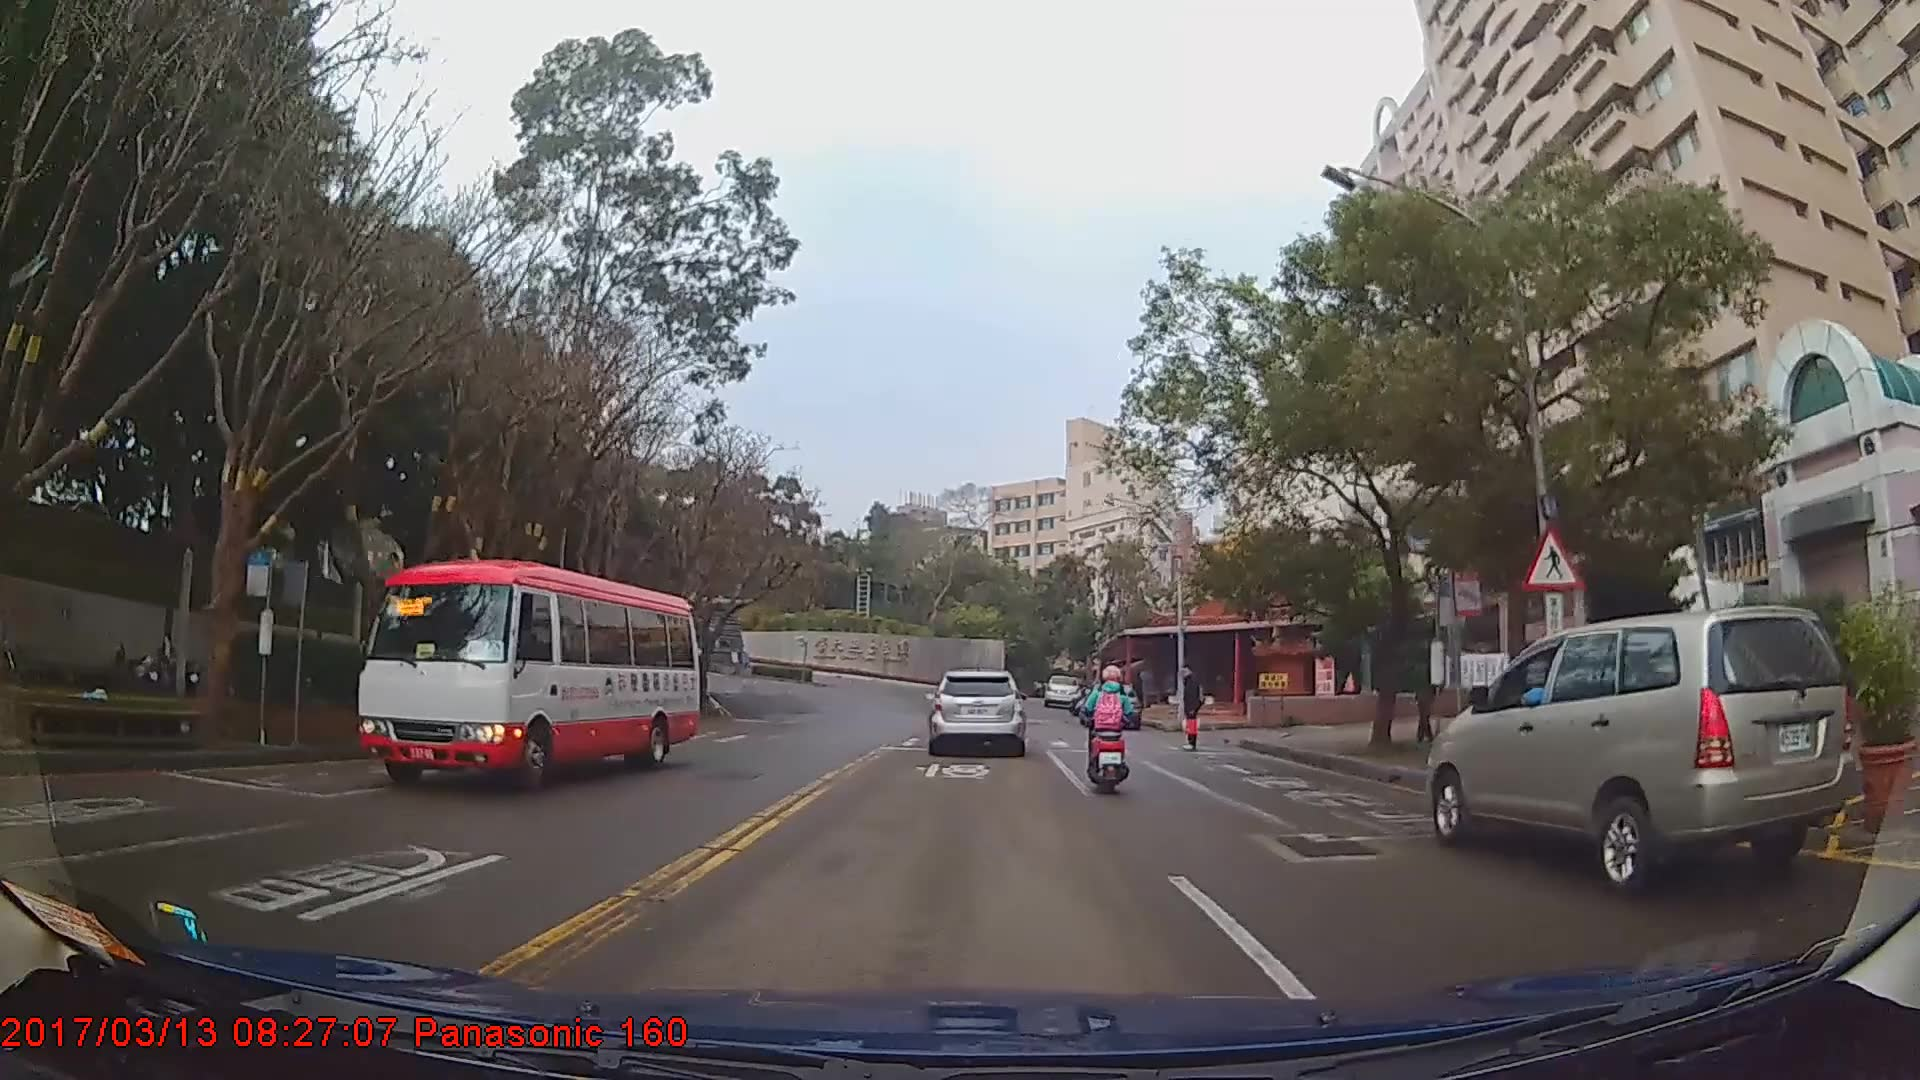pedestrian: (1178, 667, 1206, 755)
rider: (1078, 667, 1136, 797)
vehicle: (1426, 606, 1853, 900), (356, 559, 701, 796), (924, 670, 1027, 757), (1045, 674, 1084, 708)
